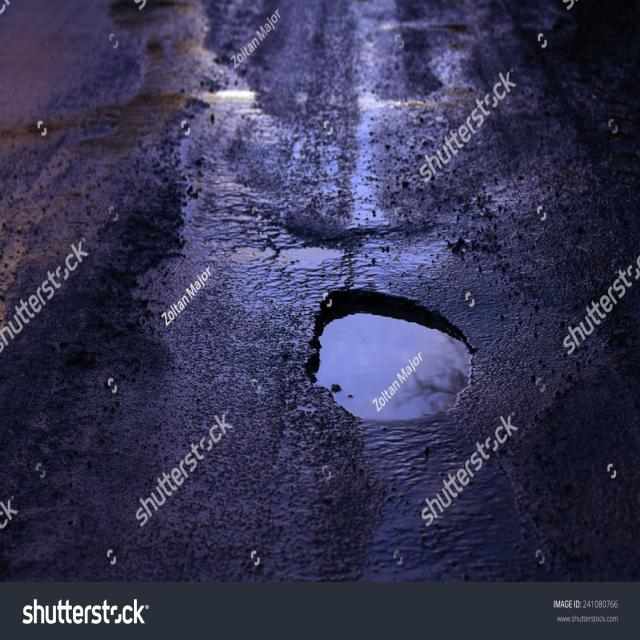Pothole: (316, 313, 471, 421)
